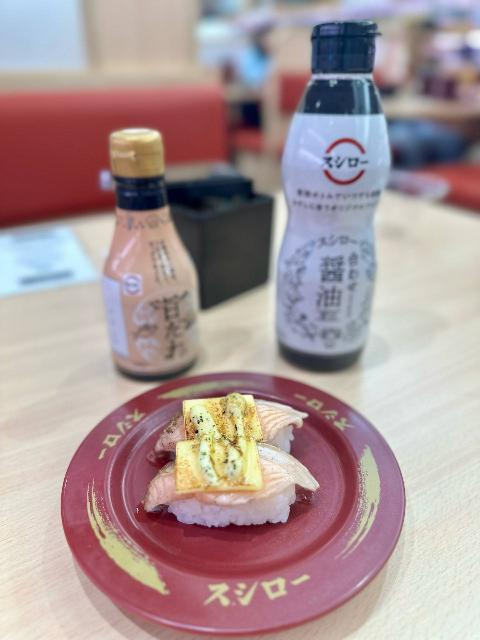janred: (88, 358, 406, 629)
